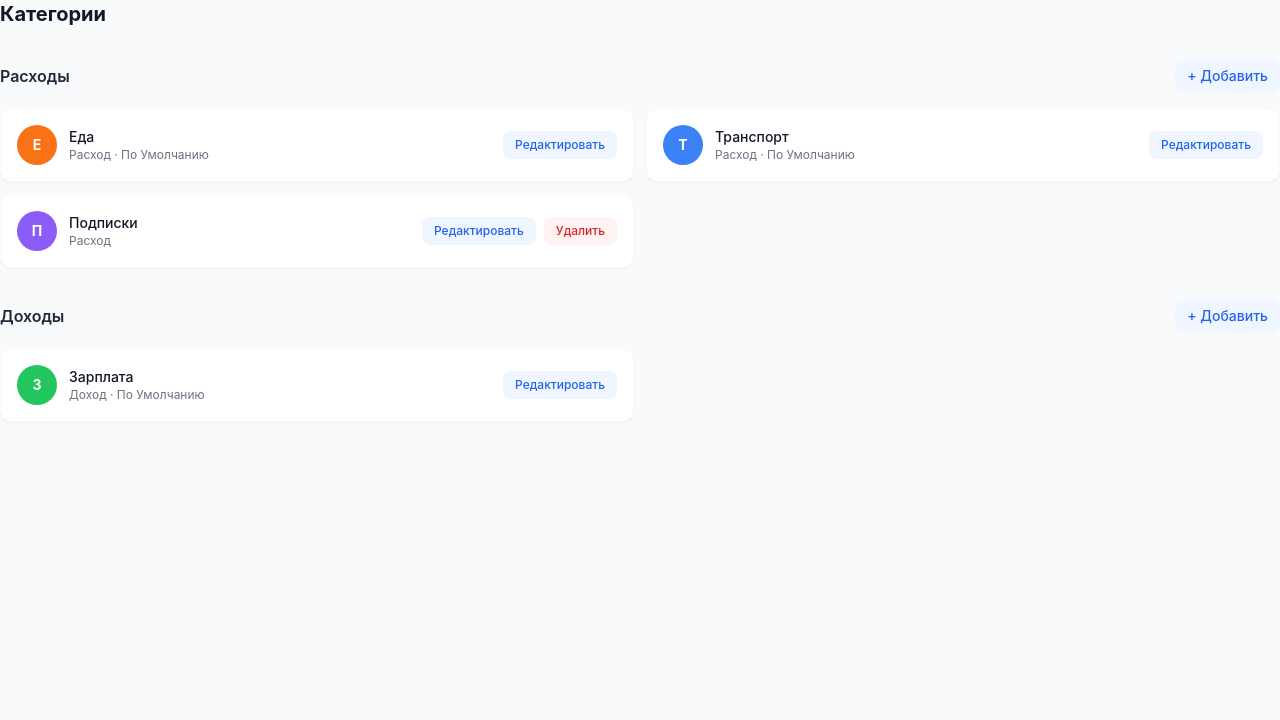
Test: CategoriesPage — удаление категории без транзакций › закрывает диалог при отмене
Expected: the text "Подписки" is shown, [69,213,138,233]
Click the button "Удалить" at coordinates (580, 231), box [544,217,617,245]
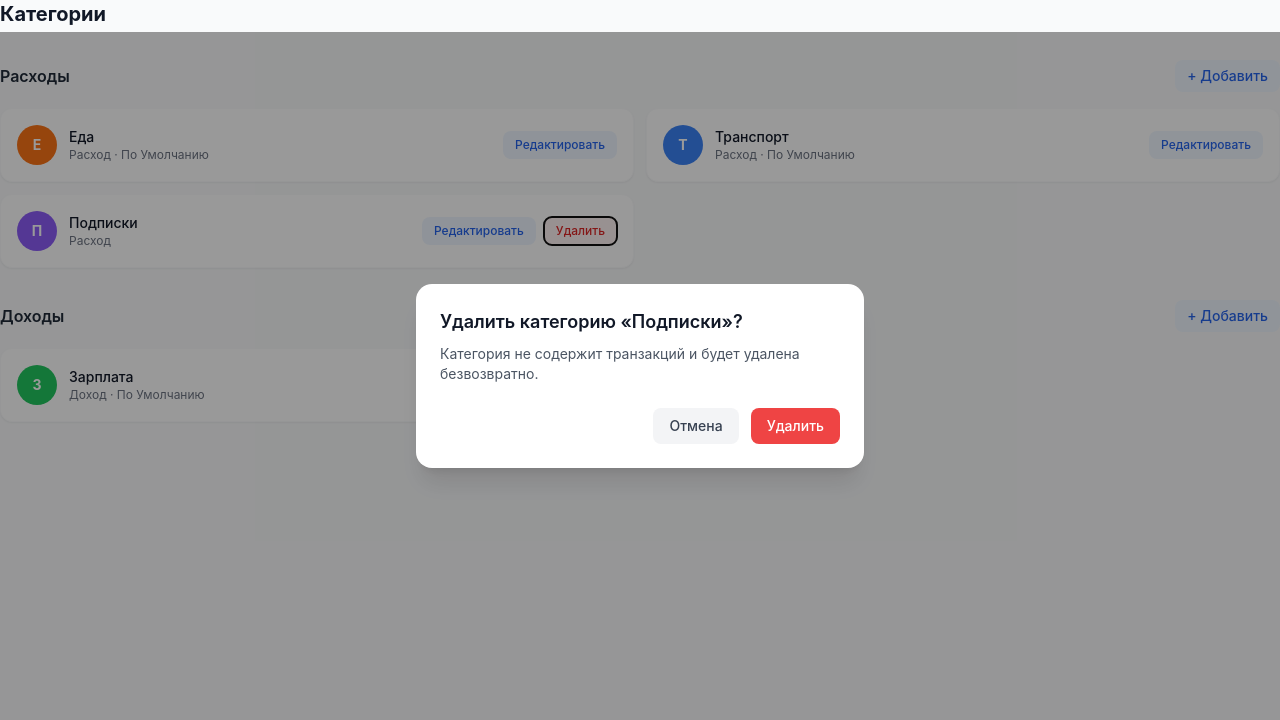
Expected: the heading "Удалить категорию «Подписки»?" is shown, [440,311,743,332]
Click the button "Отмена" at coordinates (696, 426), box [654,408,739,444]
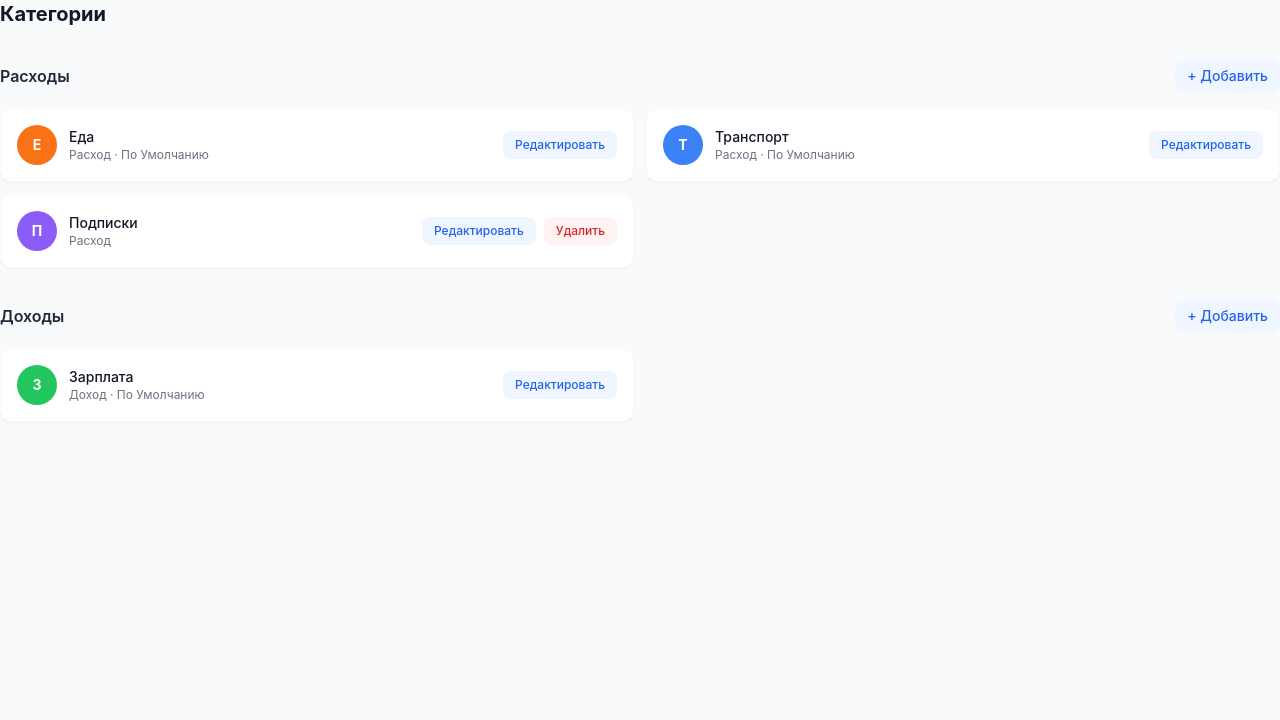
Expected: the heading "Удалить категорию «Подписки»" is gone
